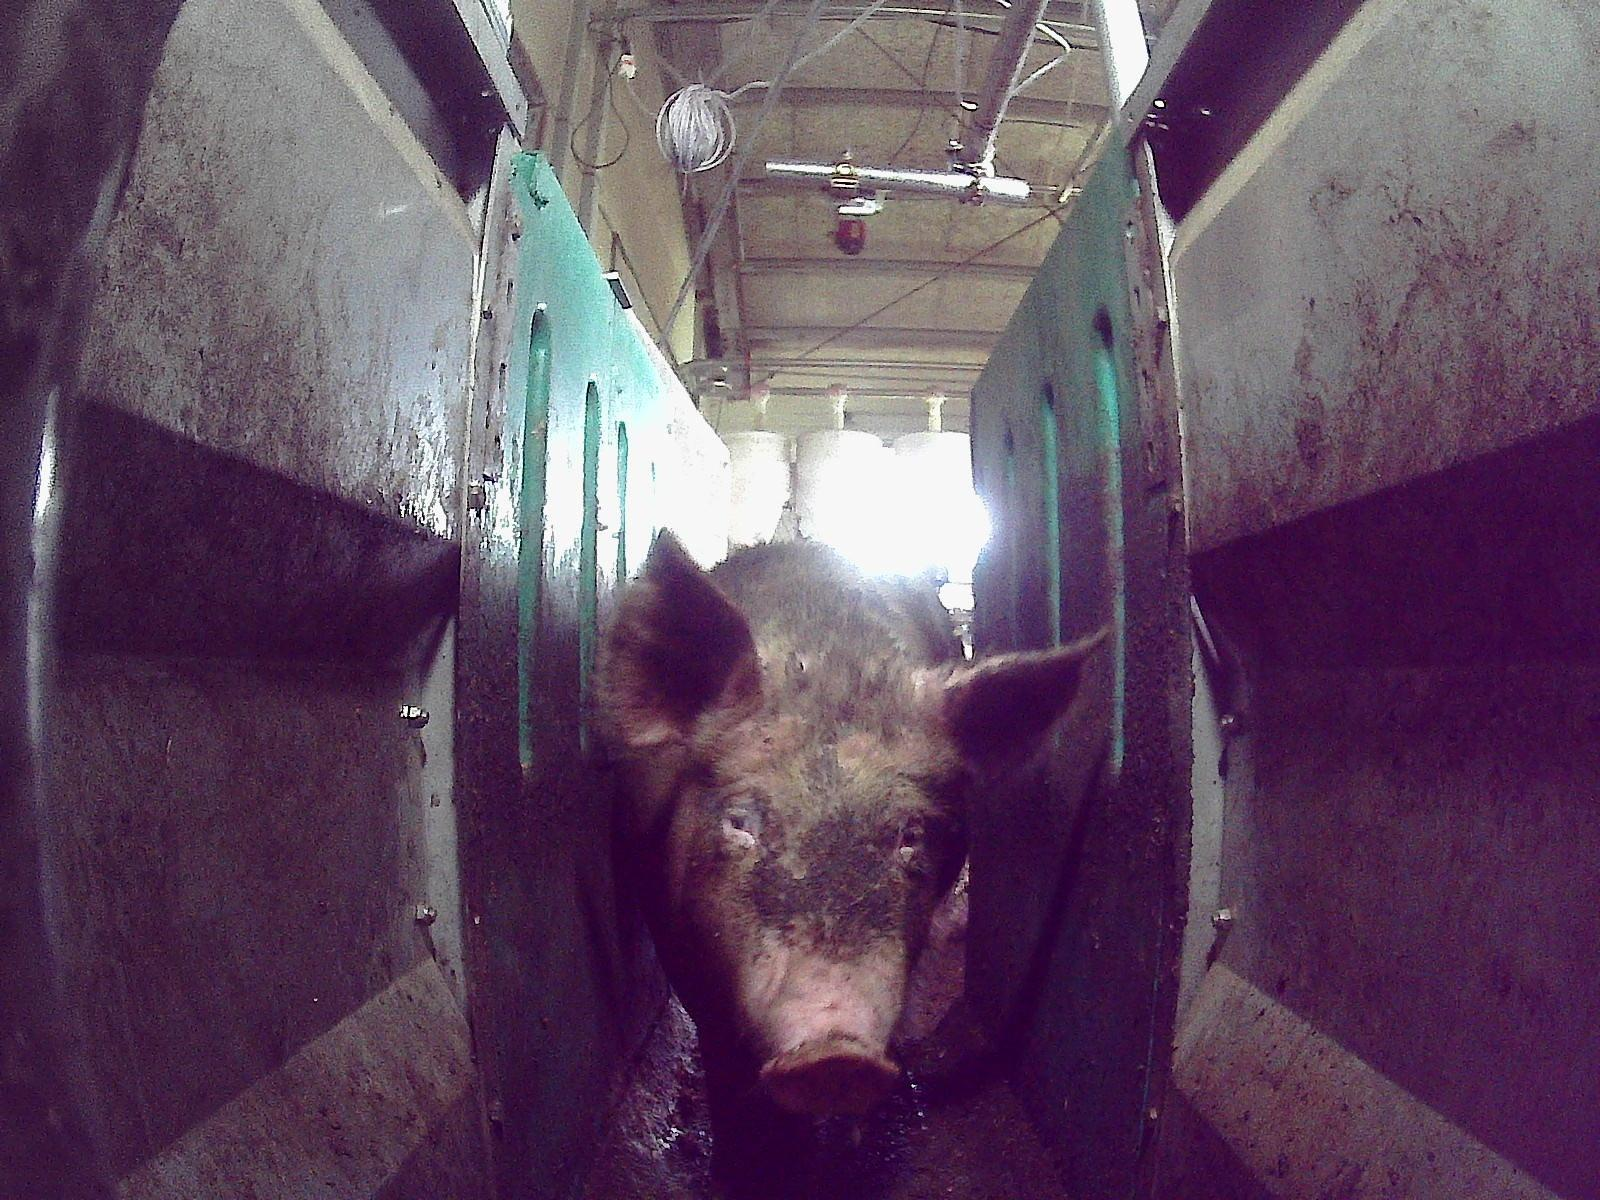Face: (668, 671, 960, 1116)
